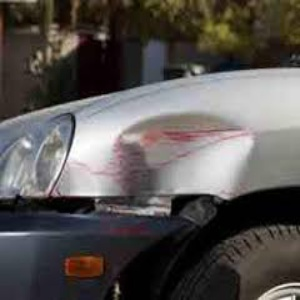bumper: (102, 106, 263, 232)
